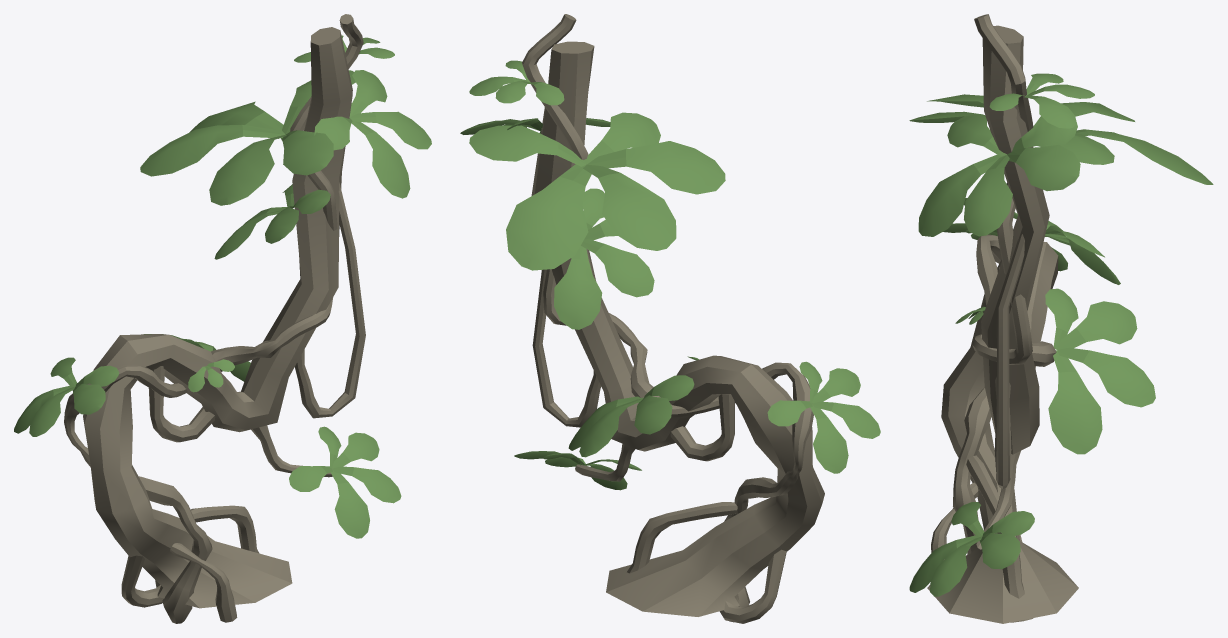
The model's file is Gnarly_Concept.FBX.
3 renders of one model, left to right at view 1: azimuth 30°, elevation 25°; view 2: azimuth 150°, elevation 25°; view 3: azimuth 270°, elevation 25°, orthographic. The views are drawn at different scales.
Visible parts, largest first — view 1: Line001; view 2: Line001; view 3: Line001.
Boxes of the visible parts, x1,y1,x2,y2 form: Line001: (14, 14, 431, 623); Line001: (460, 14, 880, 623); Line001: (909, 14, 1213, 623).
Size of the model in its own units: 104 by 141 by 58.13.
